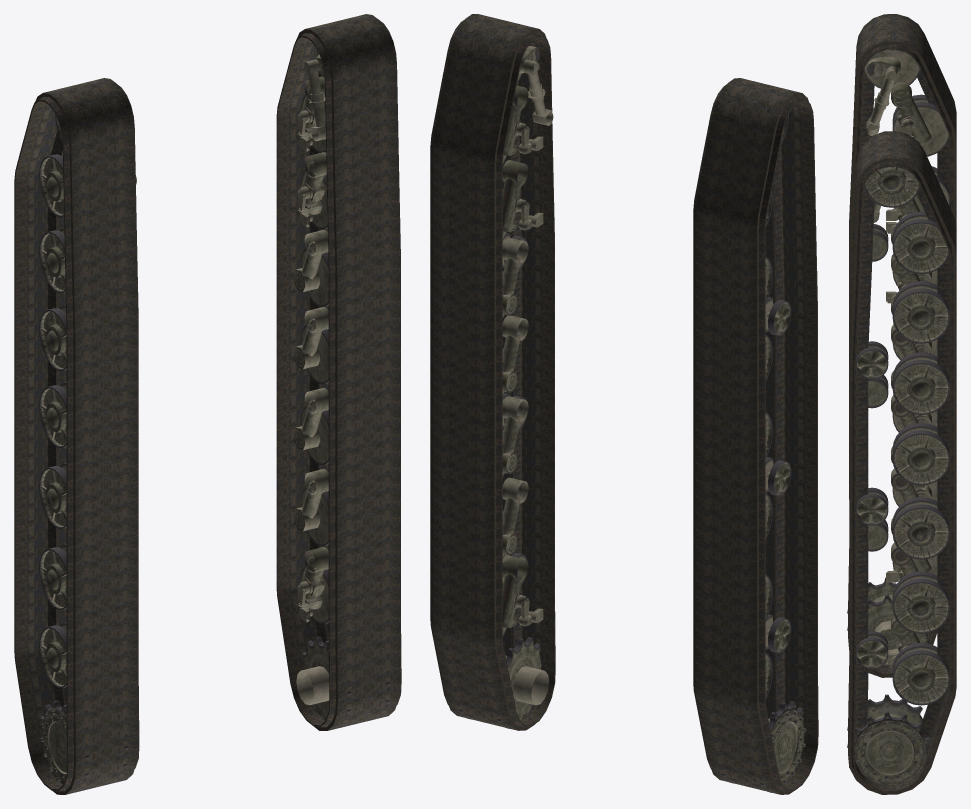
Rendered from Chassis.glb.
3 views of the same model, side by side, from view 1: azimuth 30°, elevation 25°; view 2: azimuth 150°, elevation 25°; view 3: azimuth 270°, elevation 25° (orthographic). The views are drawn at different scales.
Parts seen in each view (by area): view 1: set_1_group_0, set_0_group_0, set_3_group_0, set_2_group_0; view 2: set_1_group_0, set_0_group_0, set_3_group_0, set_2_group_0; view 3: set_3_group_0, set_0_group_0, set_2_group_0, set_1_group_0.
Part boxes in pixels (x1=…): set_1_group_0: x1=14, y1=78, x2=139, y2=794; set_0_group_0: x1=276, y1=14, x2=401, y2=730; set_3_group_0: x1=293, y1=49, x2=389, y2=725; set_2_group_0: x1=39, y1=114, x2=136, y2=789; set_1_group_0: x1=693, y1=78, x2=818, y2=794; set_0_group_0: x1=430, y1=14, x2=555, y2=730; set_3_group_0: x1=459, y1=46, x2=553, y2=728; set_2_group_0: x1=721, y1=114, x2=806, y2=792; set_3_group_0: x1=847, y1=166, x2=949, y2=785; set_0_group_0: x1=848, y1=131, x2=956, y2=794; set_2_group_0: x1=847, y1=49, x2=949, y2=667; set_1_group_0: x1=848, y1=14, x2=956, y2=677.
Bounding box in the file's own units: 3.37 × 6.71 × 1.04.
4 materials, 4 textured.
